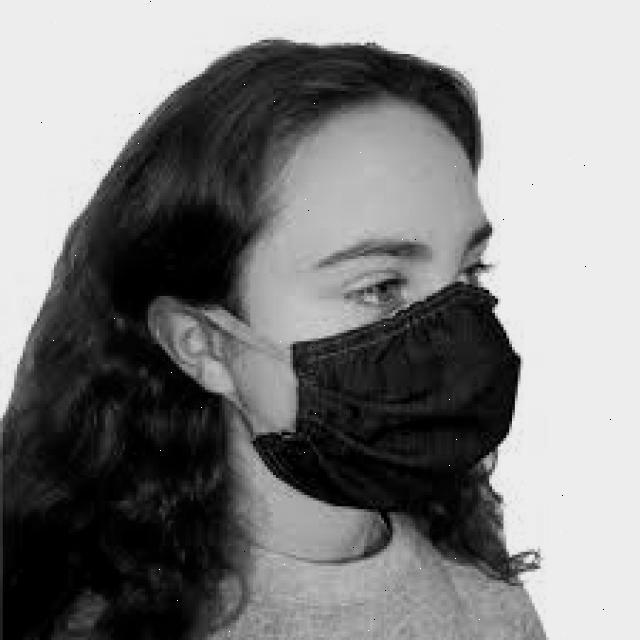fake: (208, 282, 542, 534)
real: (236, 105, 508, 531)
